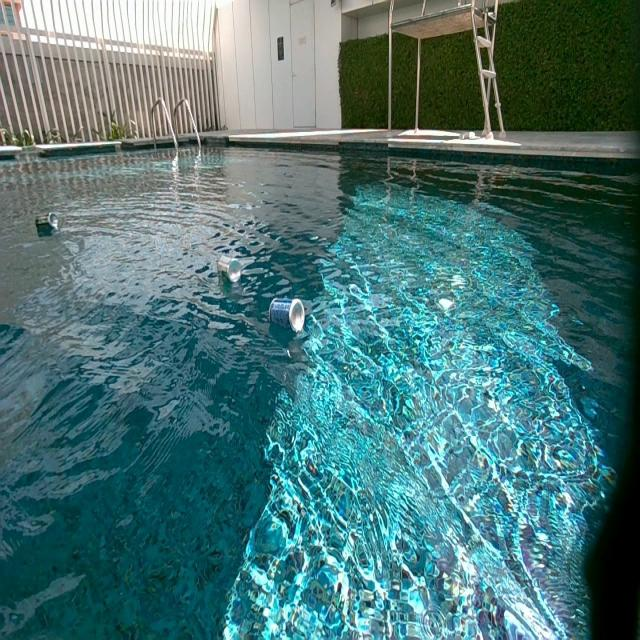Cans: (268, 297, 304, 332), (217, 255, 242, 285), (36, 212, 58, 232)
